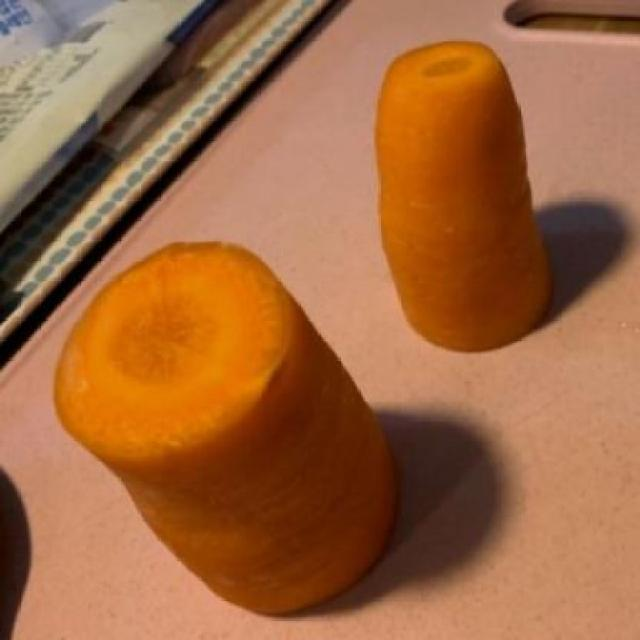carrot: (44, 233, 404, 622), (358, 35, 562, 358)
